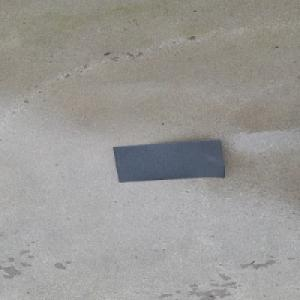PaintChip: (112, 138, 226, 182)
